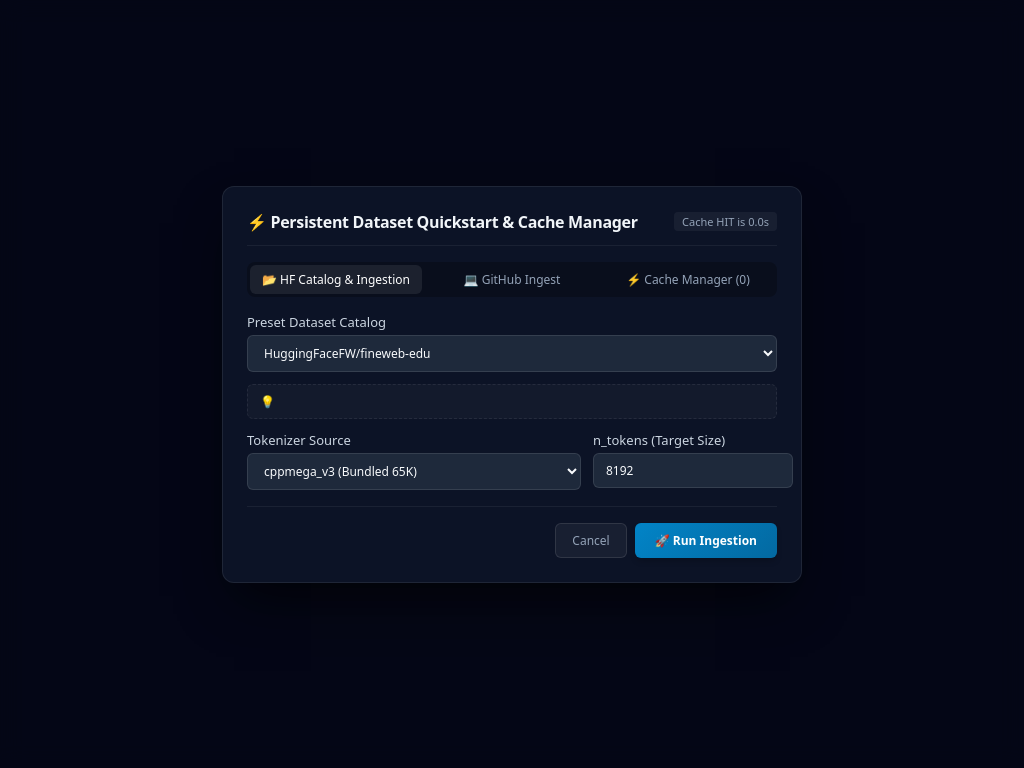
Scenario: V8-R09 HFQuickStartModal › error banner appears when the RPC throws
This screenshot has width=1024, height=768.
Click the button with test id "hf-quickstart-run" at (706, 540), box x1=635 y1=522 x2=777 y2=558
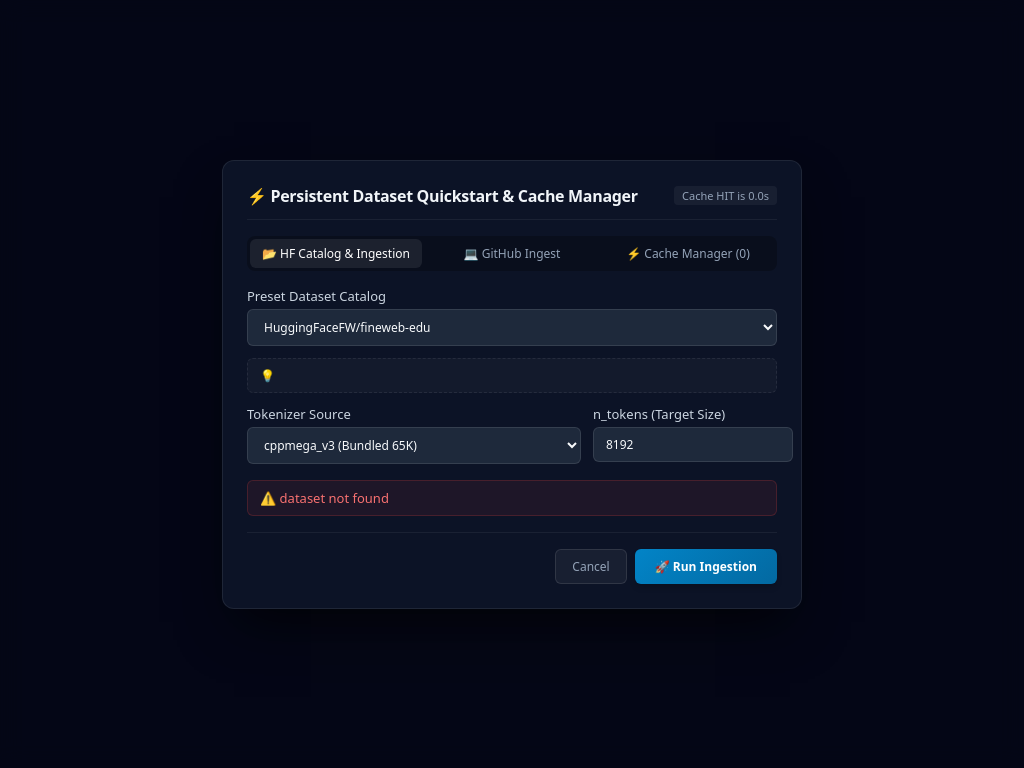
Check: the text with test id "hf-quickstart-error" shows "dataset not found", box x1=280 y1=488 x2=389 y2=506
